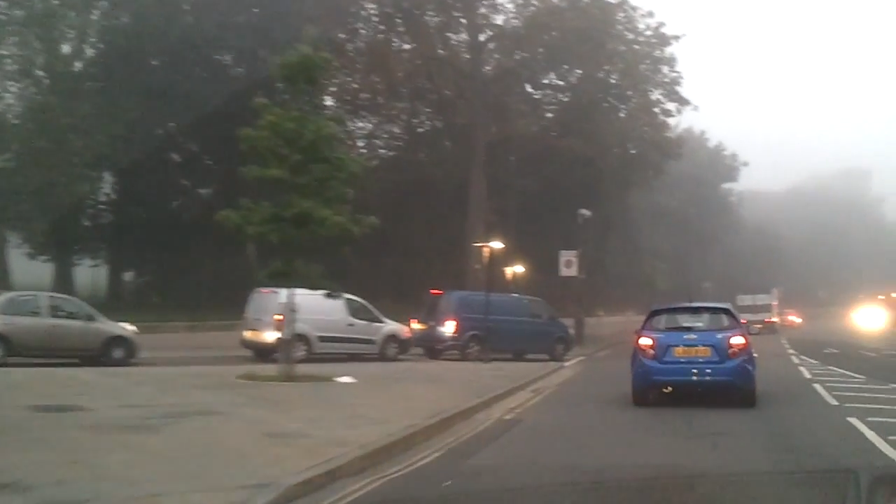bus: (734, 294, 781, 336)
car: (629, 302, 761, 409), (240, 285, 414, 362), (409, 287, 574, 364), (1, 290, 143, 367), (777, 308, 803, 329)
